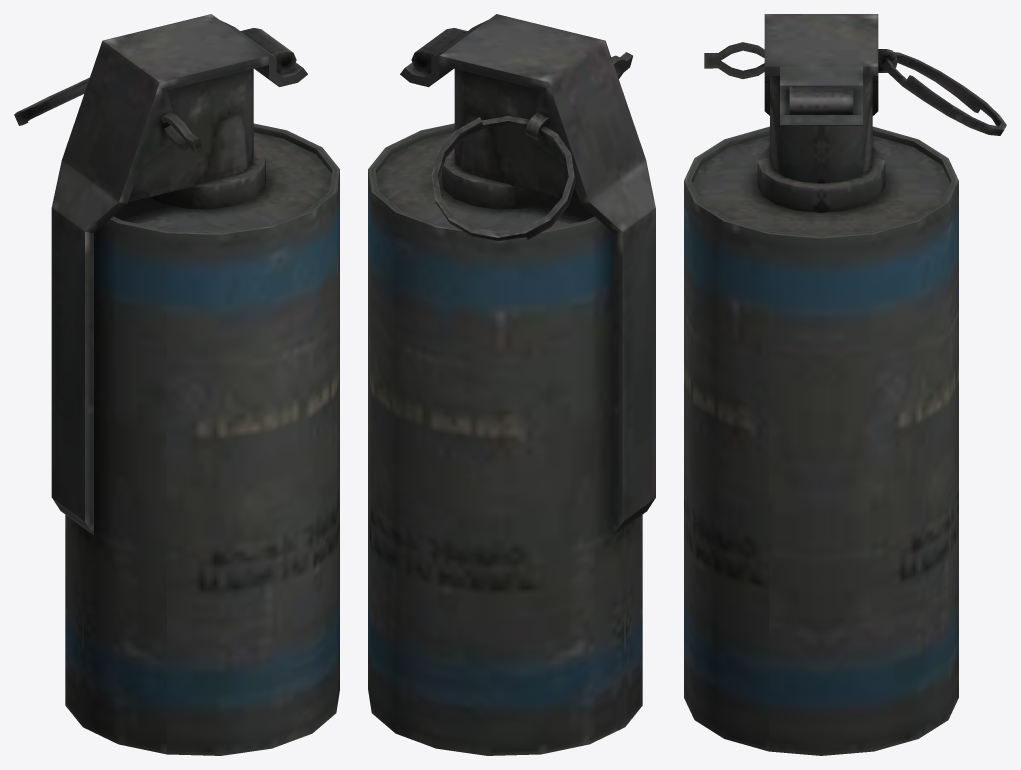
File: FlashBang.obj
The picture shows the model from 3 angles, left to right: view 1: azimuth 30°, elevation 25°; view 2: azimuth 150°, elevation 25°; view 3: azimuth 270°, elevation 25°; orthographic projection.
Parts seen in each view (by area): view 1: Part_0; view 2: Part_0; view 3: Part_0.
Boxes of the visible parts, x1,y1,x2,y2 form: Part_0: (14, 14, 339, 755); Part_0: (368, 14, 655, 755); Part_0: (684, 14, 1006, 755).
Size of the model in its own units: 0.0525 by 0.1293 by 0.0583.
Materials: 1 (1 with a texture image).
